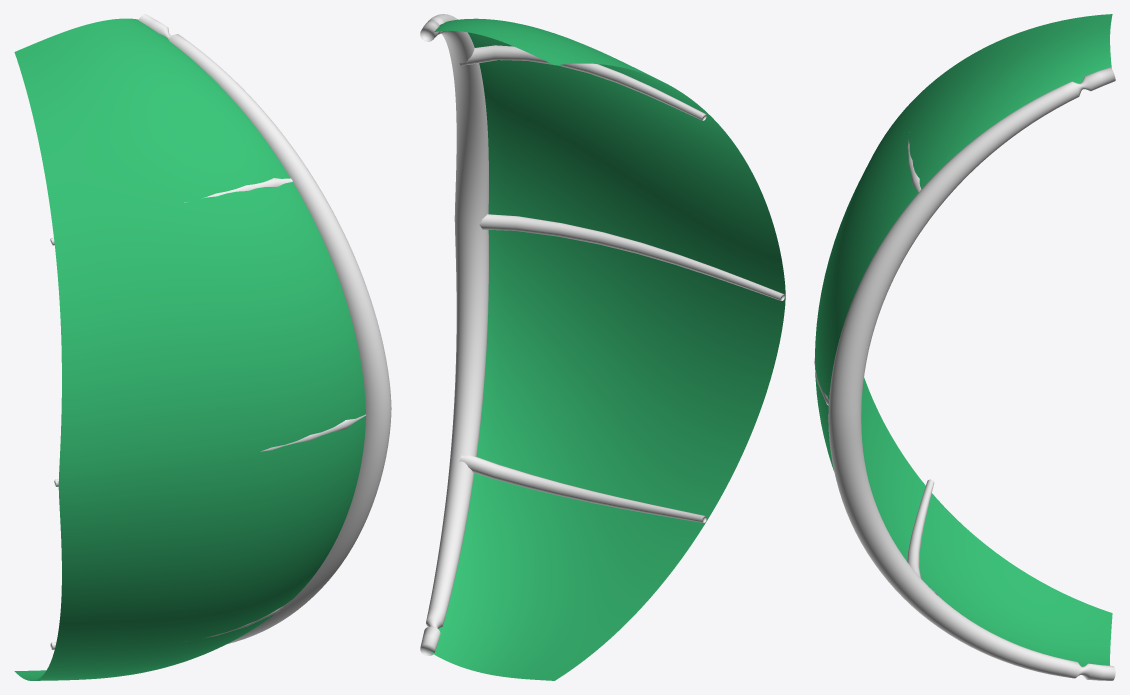
Rendered from kite_wave.obj.
The picture shows the model from 3 angles, left to right: view 1: azimuth 30°, elevation 25°; view 2: azimuth 150°, elevation 25°; view 3: azimuth 270°, elevation 25°; orthographic projection. The views are drawn at different scales.
Bounding box in the file's own units: 246 × 456 × 201.
